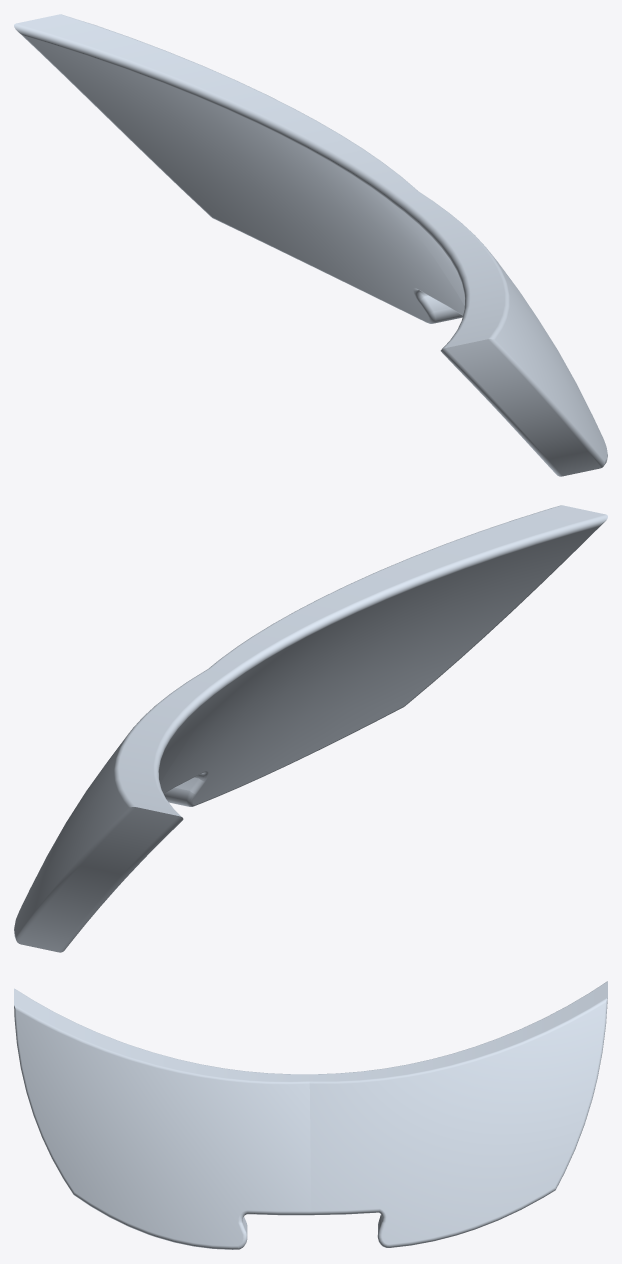
Rendered from RB-024_viewer.glb.
3 renders of one model, top to bottom at view 1: azimuth 30°, elevation 25°; view 2: azimuth 150°, elevation 25°; view 3: azimuth 270°, elevation 25°, orthographic. The views are drawn at different scales.
Parts seen in each view (by area): view 1: basebody_imported1; view 2: basebody_imported1; view 3: basebody_imported1.
Boxes of the visible parts, x1,y1,x2,y2 form: basebody_imported1: (14, 14, 607, 476); basebody_imported1: (14, 505, 607, 952); basebody_imported1: (14, 981, 607, 1249).
Size of the model in its own units: 0.00877 by 0.00721 by 0.0224.
